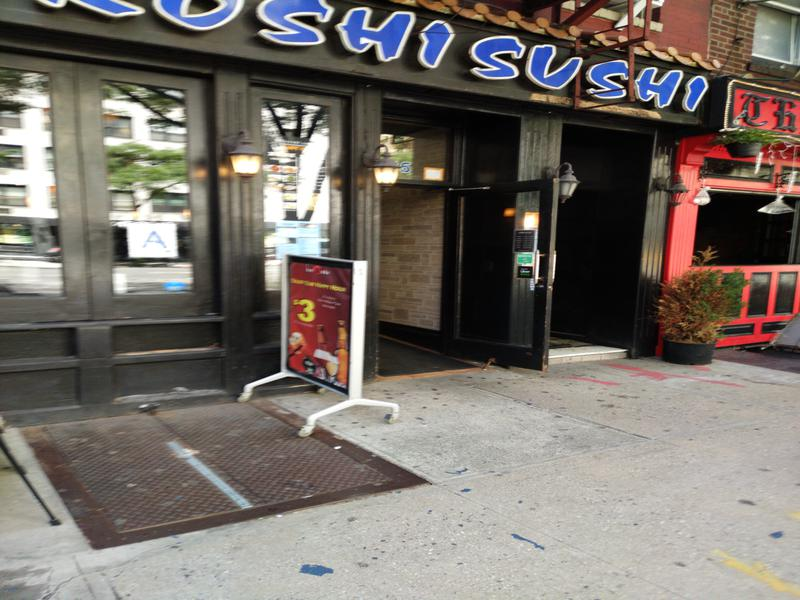door: (448, 177, 553, 379)
